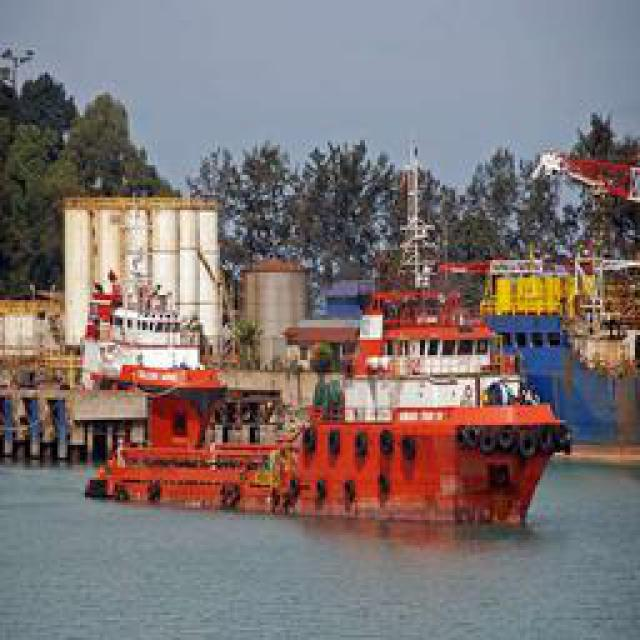Ship: (92, 281, 565, 526)
